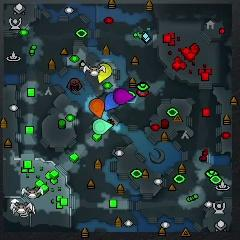p1: (105, 92, 119, 110)
p2: (93, 119, 111, 134)
p3: (114, 88, 133, 104)
p4: (98, 62, 112, 83)
p5: (90, 98, 105, 118)
